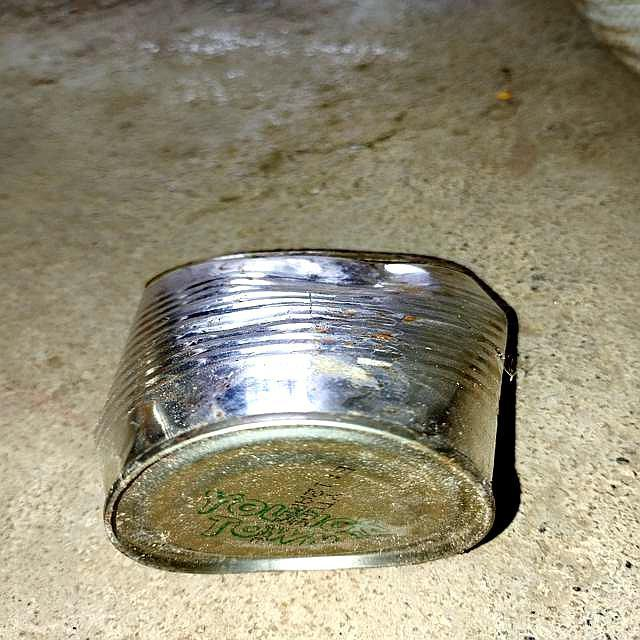Non-biodegradable: (94, 246, 518, 576)
